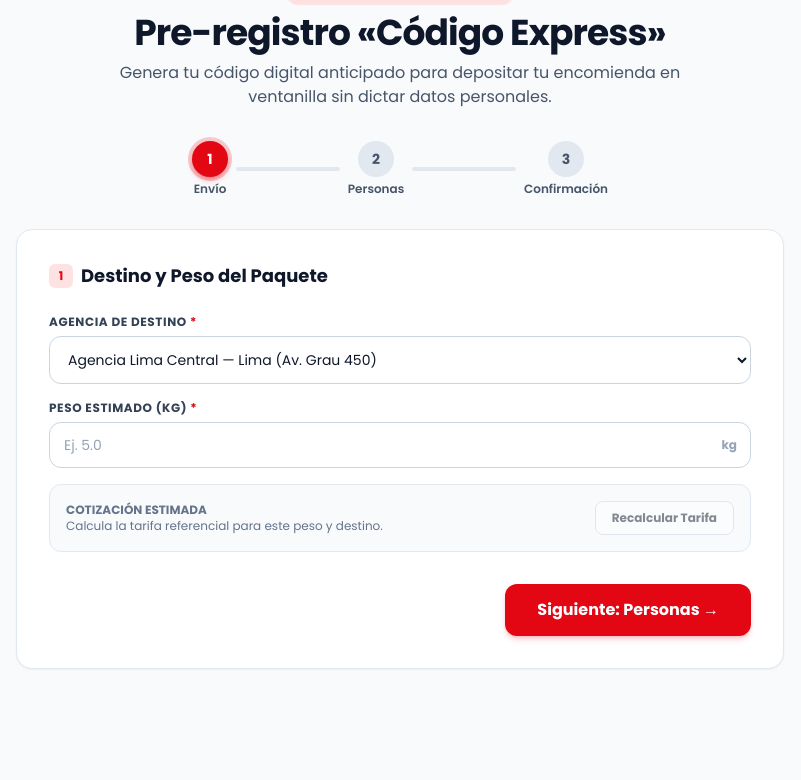
Página de Pre-Registro Express (PreRegistro.tsx) › valida DNI, RUC, teléfonos y nombres en el Paso 2
// Completar Paso 1
Type "3.5" into the number field labelled "Peso Estimado (kg) *" at (400, 445), box [49,422,751,468]
Click the button "Siguiente: Personas →" at (628, 610), box [505,584,751,636]
(page scrolled)
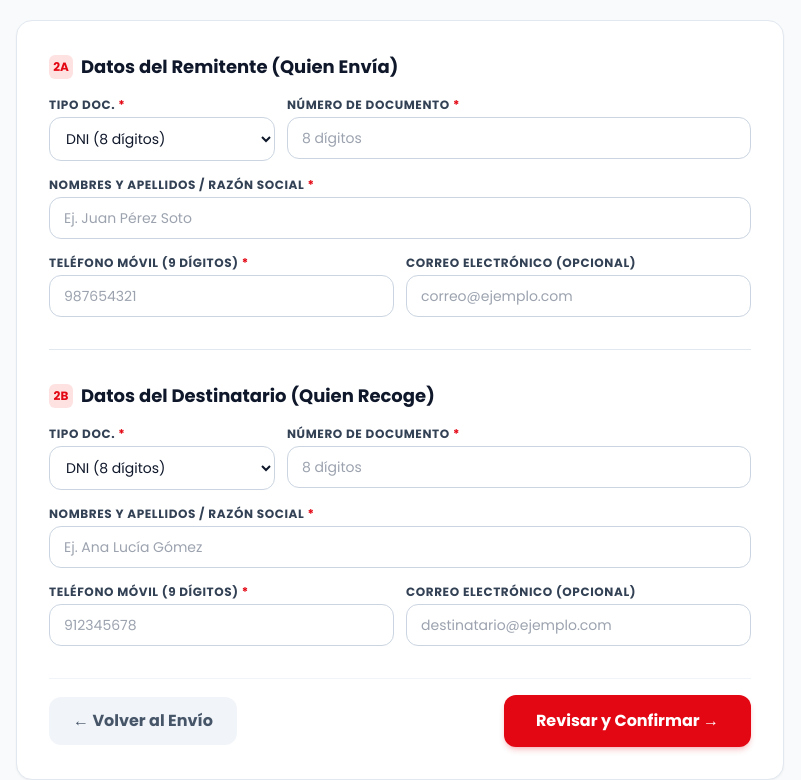
Check: the heading "2A Datos del Remitente (Quien Envía)" is shown, box [49,54,398,79]
Check: the heading "2B Datos del Destinatario (Quien Recoge)" is shown, box [49,383,435,408]
Click the button "Revisar y Confirmar →" at (627, 721), box [504,695,751,747]
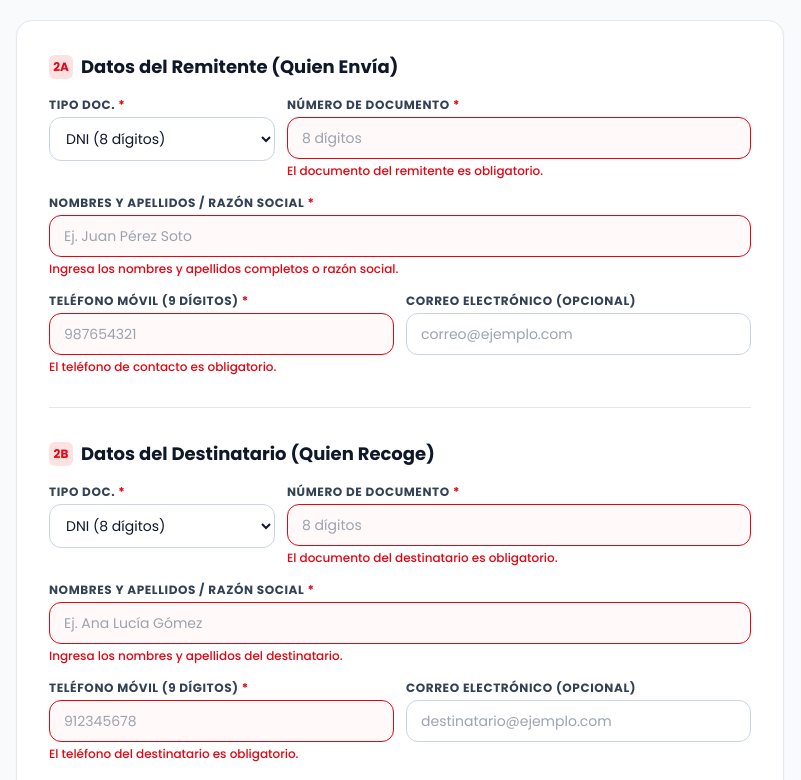
Check: the text "El documento del remitente es obligatorio." is shown, box [287,162,543,179]
// DNI inválido (menos de 8 dígitos)
Type "1234" into the field labelled "Número de Documento *" below "Datos del Remitente (Quien Envía)" at (519, 138), box [287,117,751,159]
(page scrolled)
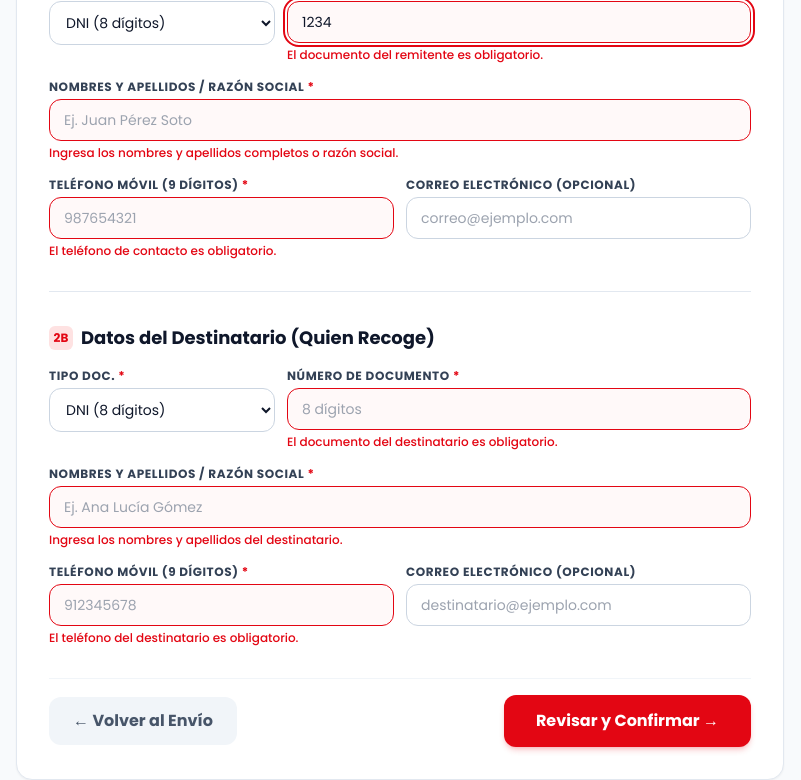
Click the button "Revisar y Confirmar →" at (627, 721), box [504,695,751,747]
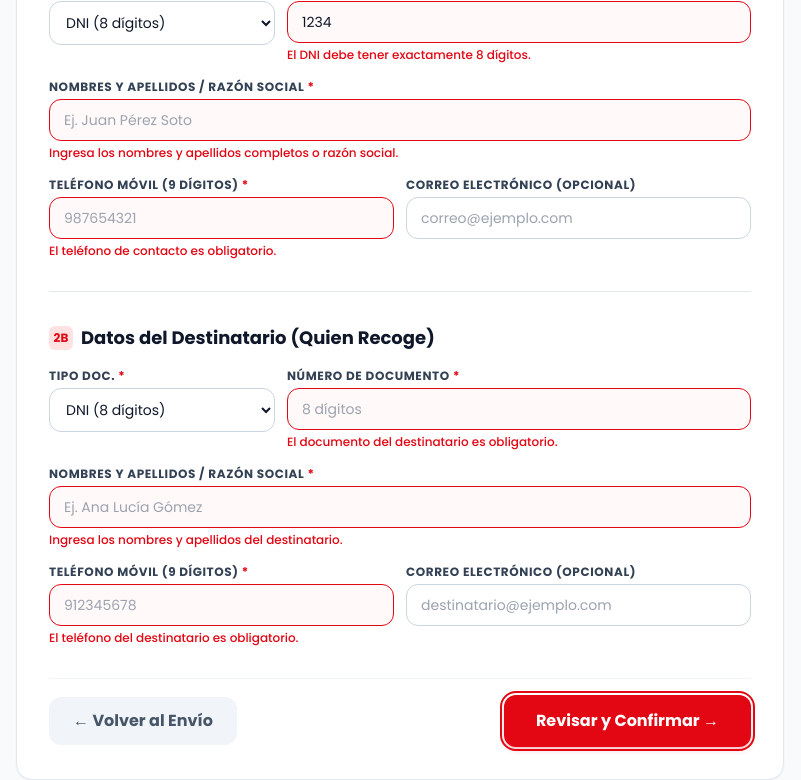
Check: the text "El DNI debe tener exactamente 8 dígitos." is shown, box [287,46,531,63]
// Teléfono inválido (menos de 9 dígitos)
Type "987" into the field labelled "Teléfono Móvil (9 dígitos) *" below "El DNI debe tener exactamente 8 dígitos." at (222, 218), box [49,197,394,239]
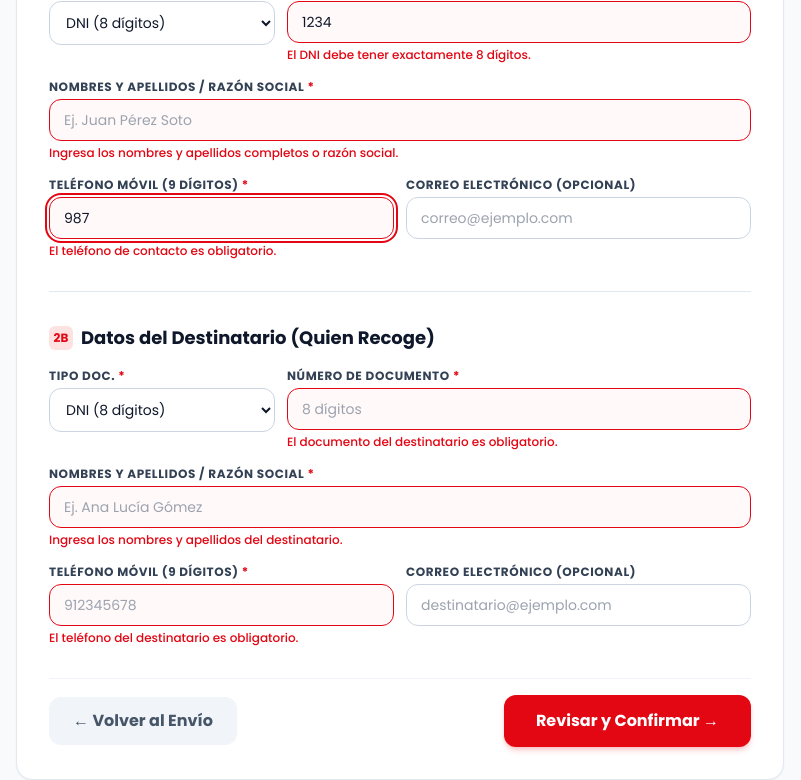
Click the button "Revisar y Confirmar →" at (627, 721), box [504,695,751,747]
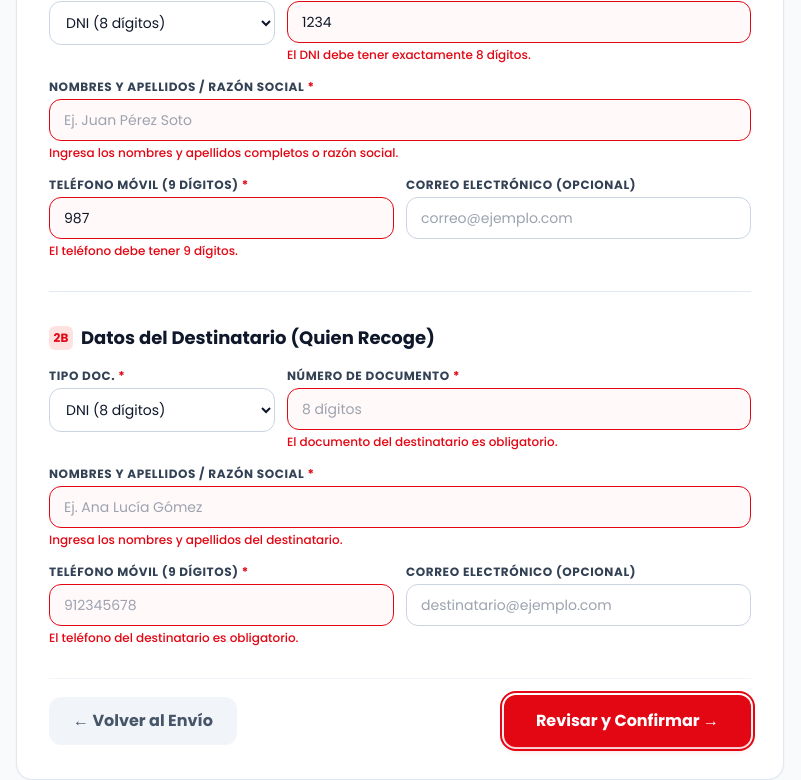
Check: the text "El teléfono debe tener 9 dígitos." is shown, box [49,242,238,259]
